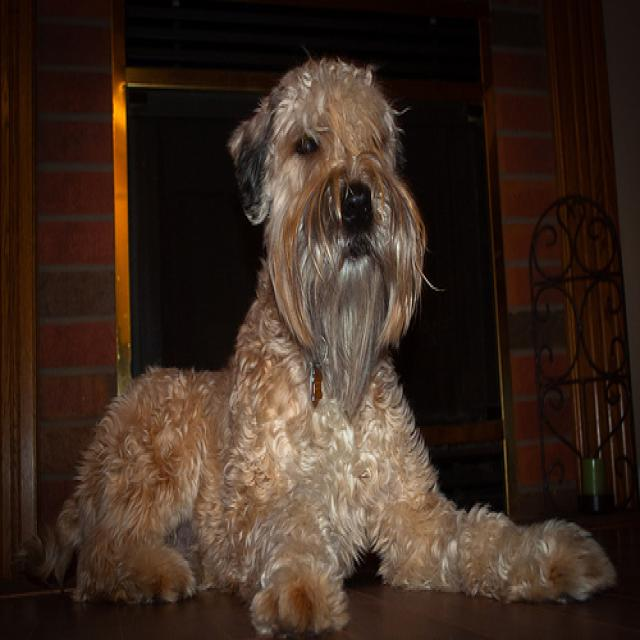dog-wheaten_terrier: (8, 46, 622, 636)
